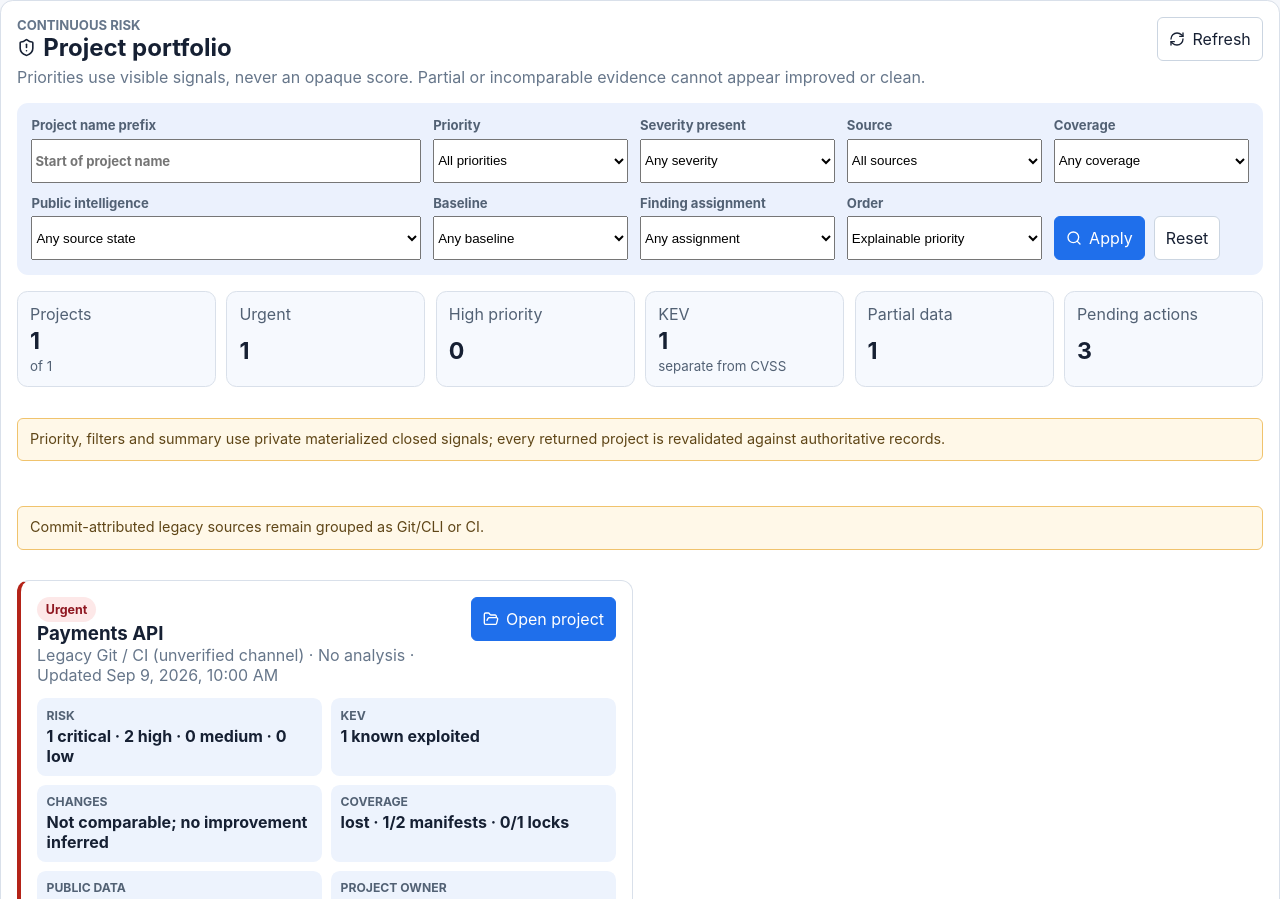
Test: ProjectPortfolioPanel › sends closed filters in the request body and renders a no-match state
Expected: the heading "Payments API" is shown, [37,622,164,645]
Type "pay" into the field labelled "Project name prefix" at (226, 161), box [31,139,421,183]
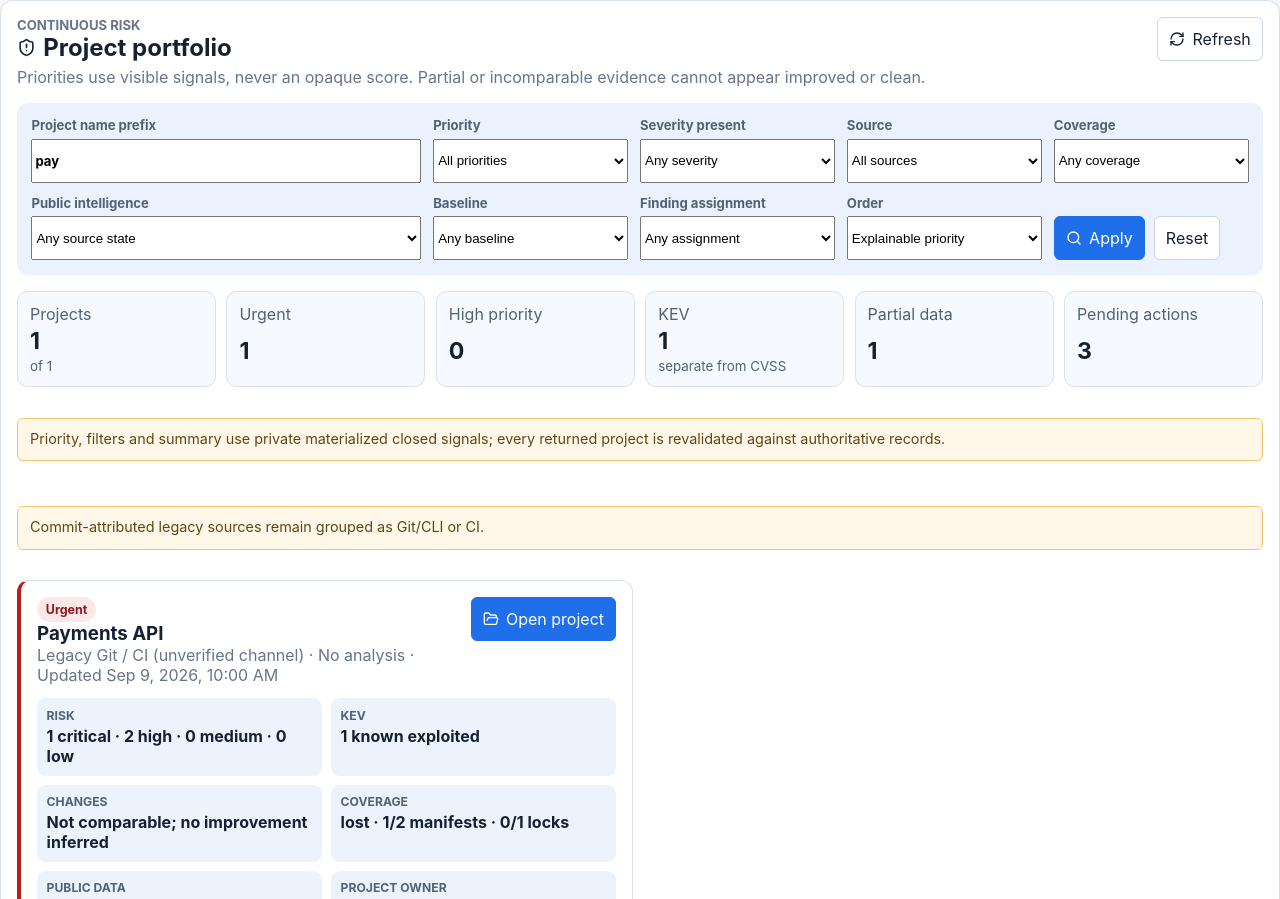
Select "Urgent" in the dropdown labelled "Priority" at (531, 161), box [433,139,628,183]
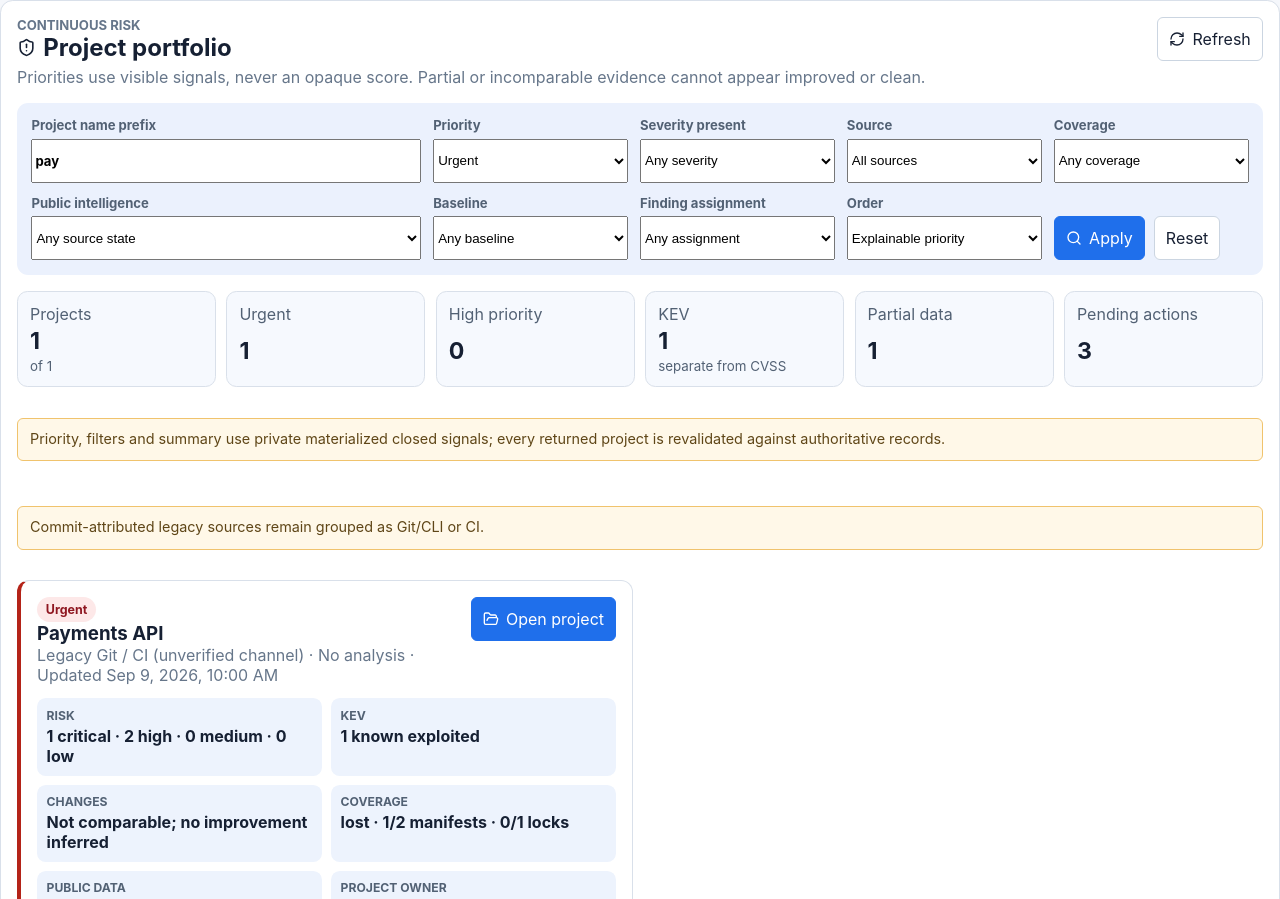
Select "Coverage lost" in the dropdown labelled "Coverage" at (1151, 161), box [1054,139,1249,183]
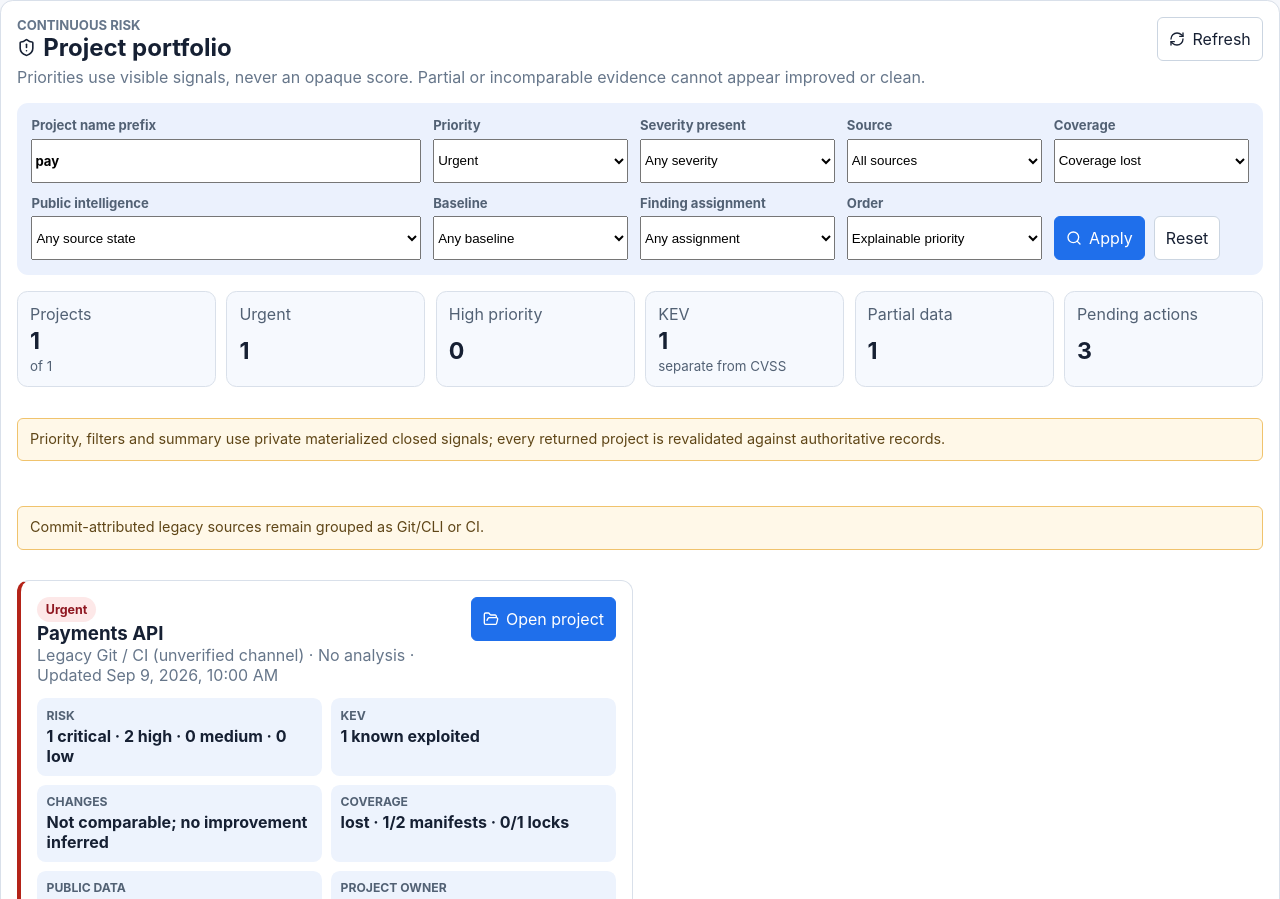
Click the button "Apply" at (1099, 238), box [1054,216,1145,260]
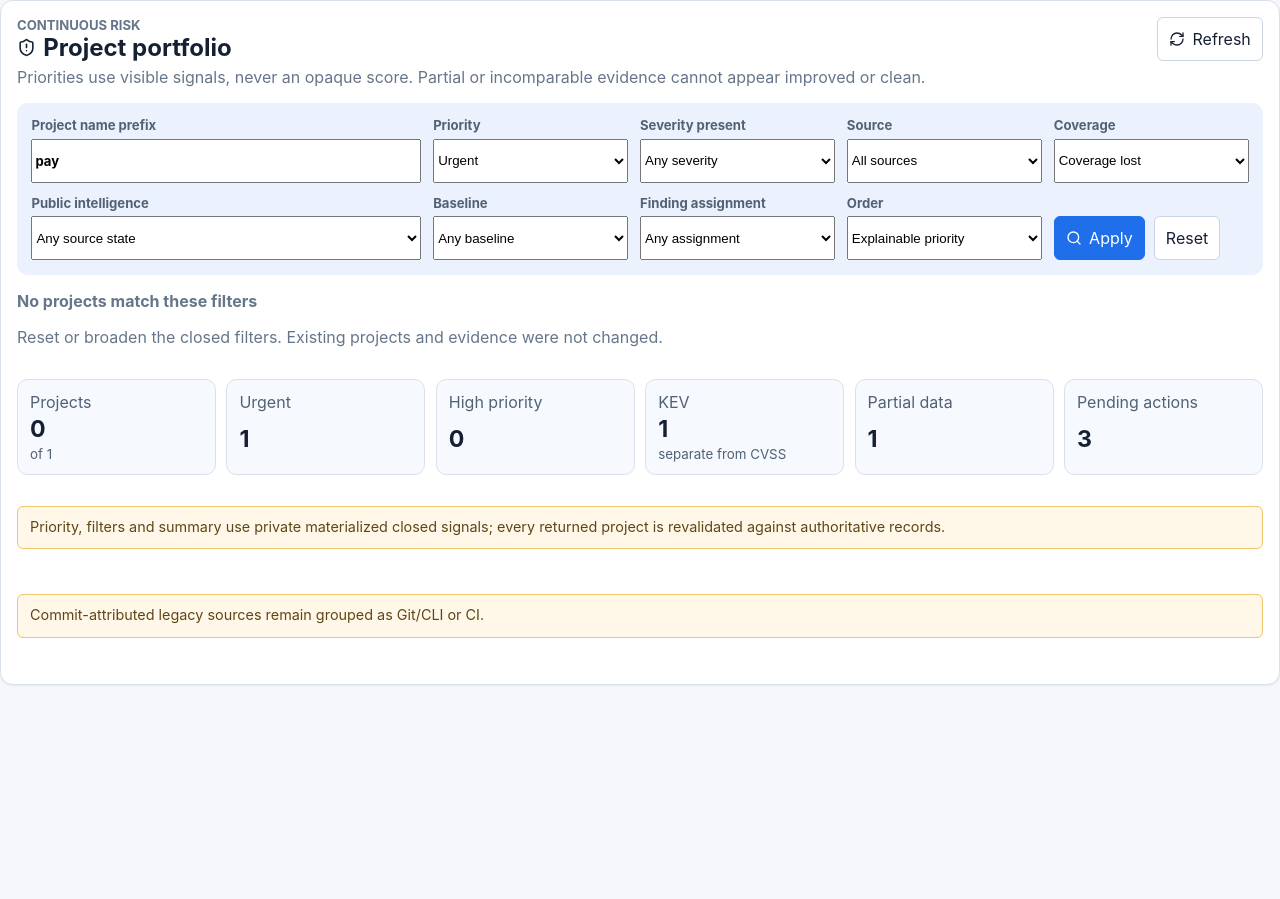
Expected: the text "No projects match these filters" is shown, [17,291,257,311]
